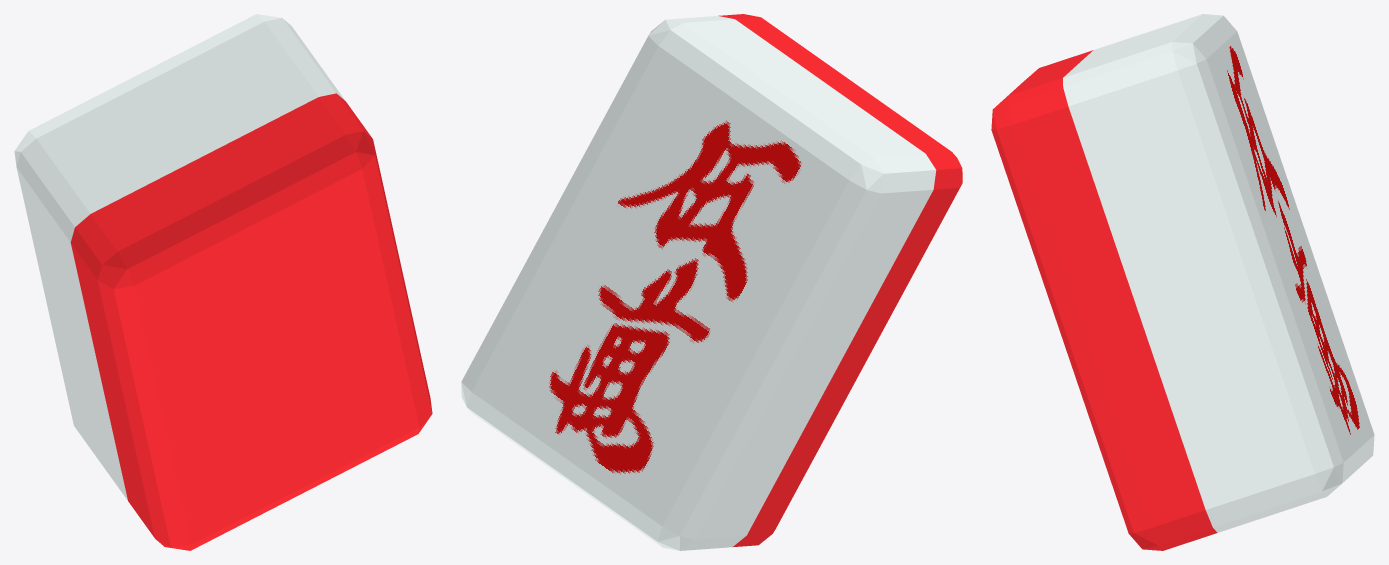
Rendered from ps2_save-icons_mahjonghaoushinkenbattle.glb.
3 renders of one model, left to right at view 1: azimuth 30°, elevation 25°; view 2: azimuth 150°, elevation 25°; view 3: azimuth 270°, elevation 25°, orthographic. The views are drawn at different scales.
Visible parts, largest first — view 1: system.ico; view 2: system.ico; view 3: system.ico.
Part boxes in pixels (x1,y1,x2,y2): system.ico: (14, 14, 432, 550); system.ico: (461, 14, 962, 550); system.ico: (991, 14, 1374, 550).
Size of the model in its own units: 3.67 by 4.7 by 3.16.
Materials: 1 (1 with a texture image).
